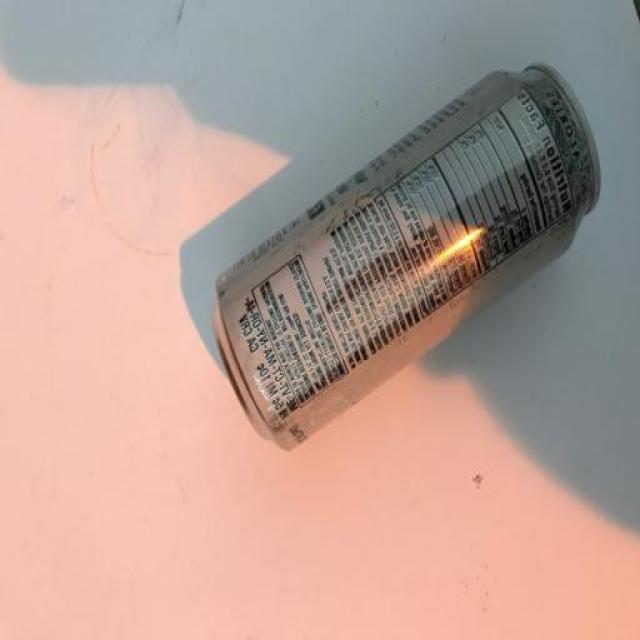Metal: (211, 62, 601, 448)
